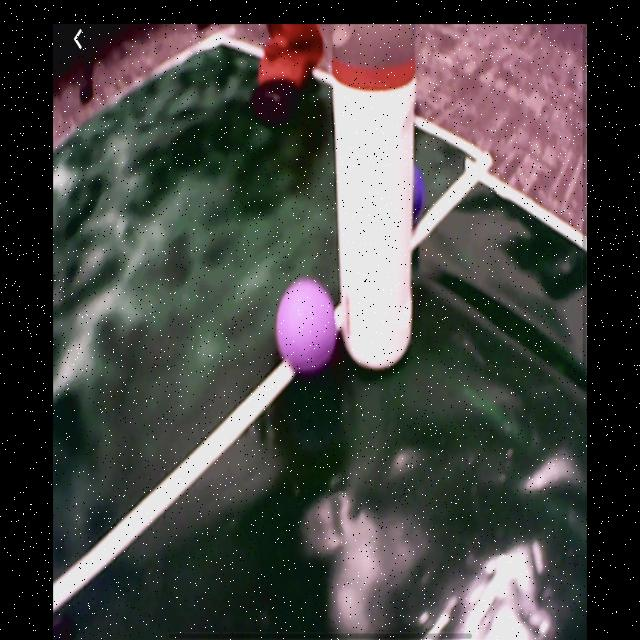ball: (277, 279, 338, 376), (413, 166, 424, 225)
